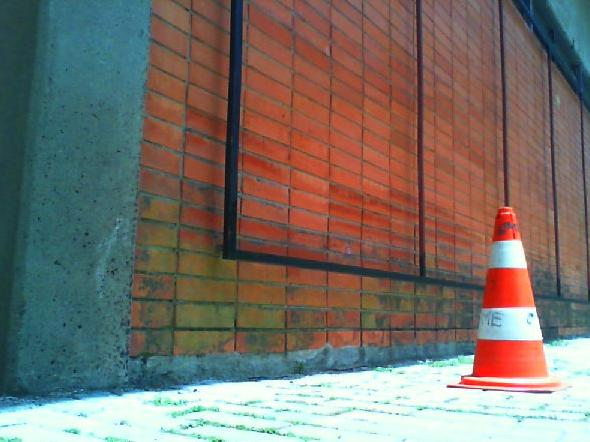0 cone: (445, 206, 573, 393)
